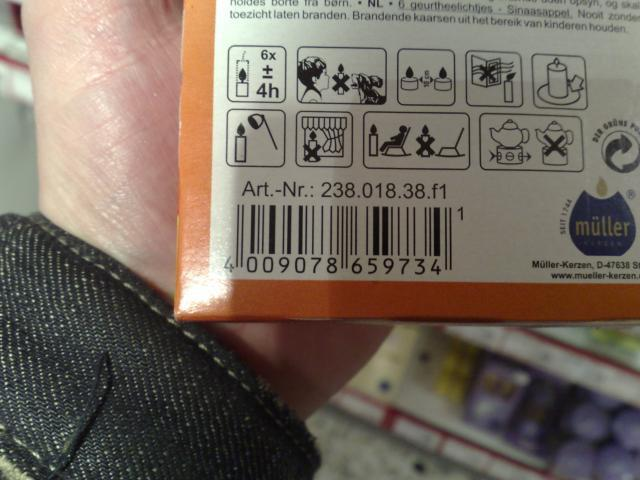Barcode: (220, 199, 475, 280)
